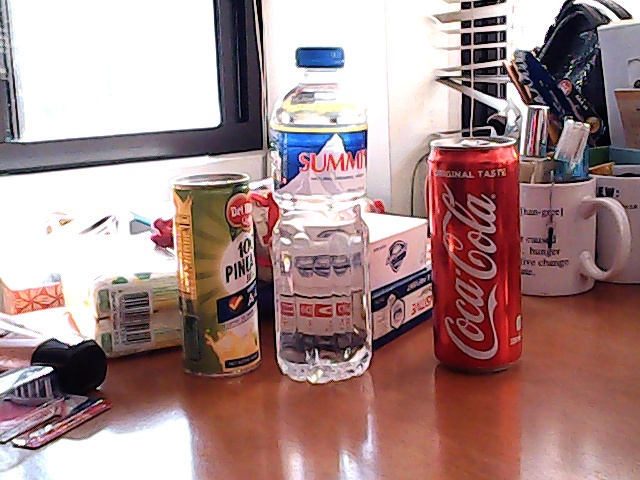Cola: (431, 144, 518, 367)
Pine Juice: (161, 173, 260, 381)
Summit Water: (269, 49, 370, 383)
